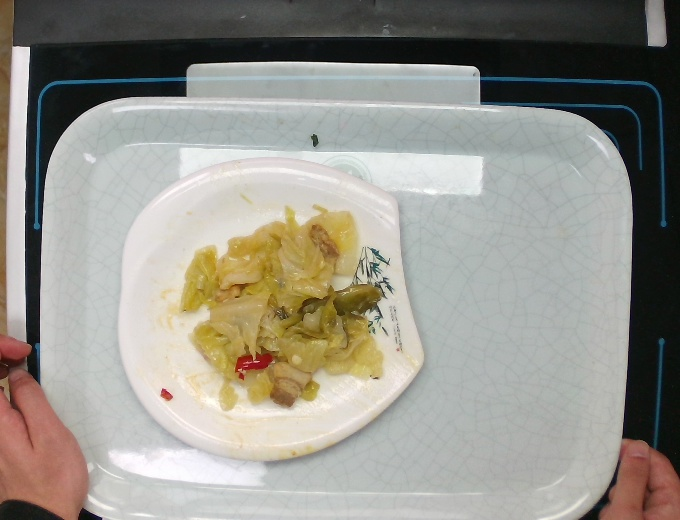JYsf-Mian_Pan: (113, 159, 433, 466)
